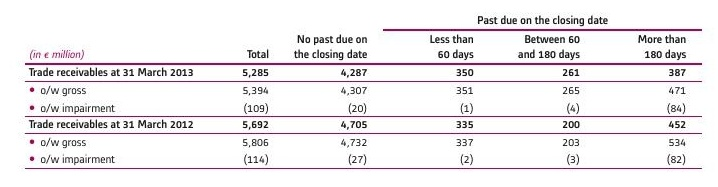table: (0, 0, 718, 187)
